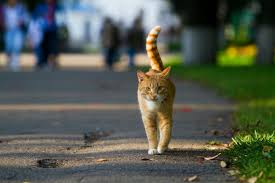cat: (111, 16, 191, 166)
